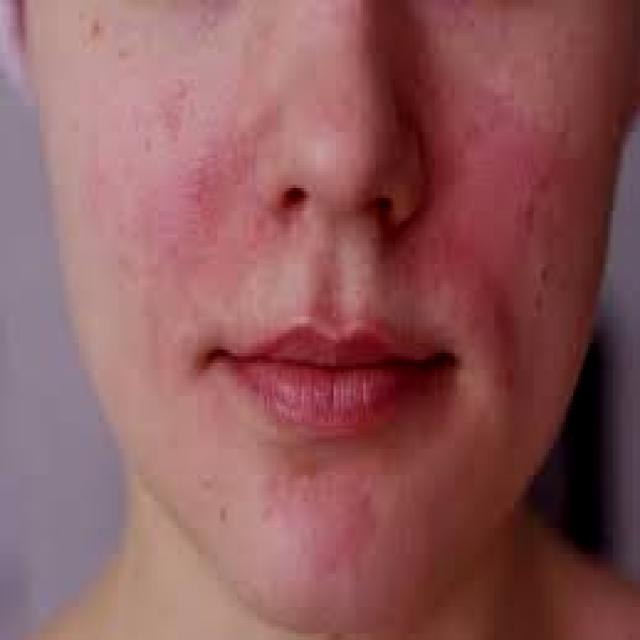Rosacea: (382, 24, 610, 393), (80, 78, 268, 387), (232, 464, 431, 633)
